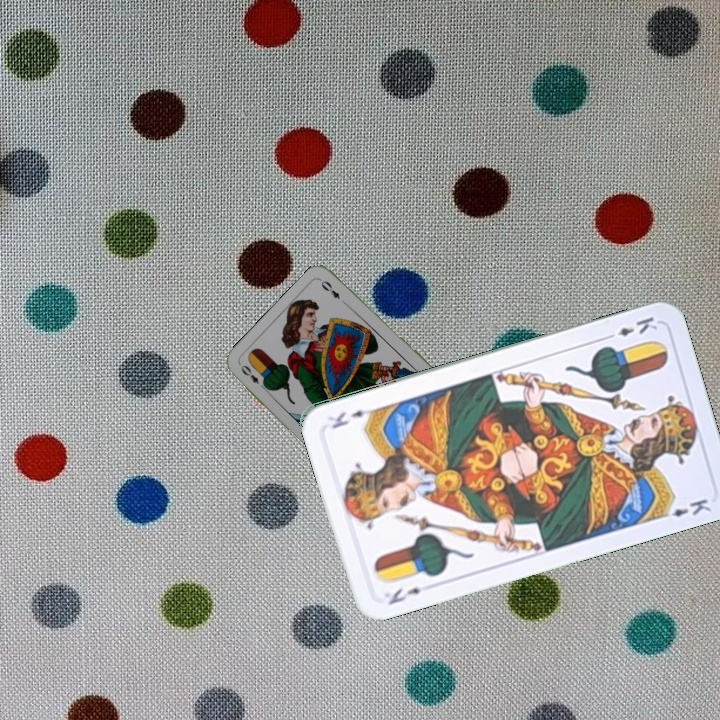EK: (601, 312, 660, 342), (384, 583, 424, 608)
EO: (236, 361, 270, 393)
